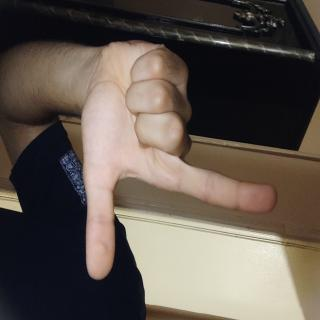LAAM: (27, 52, 214, 320)
